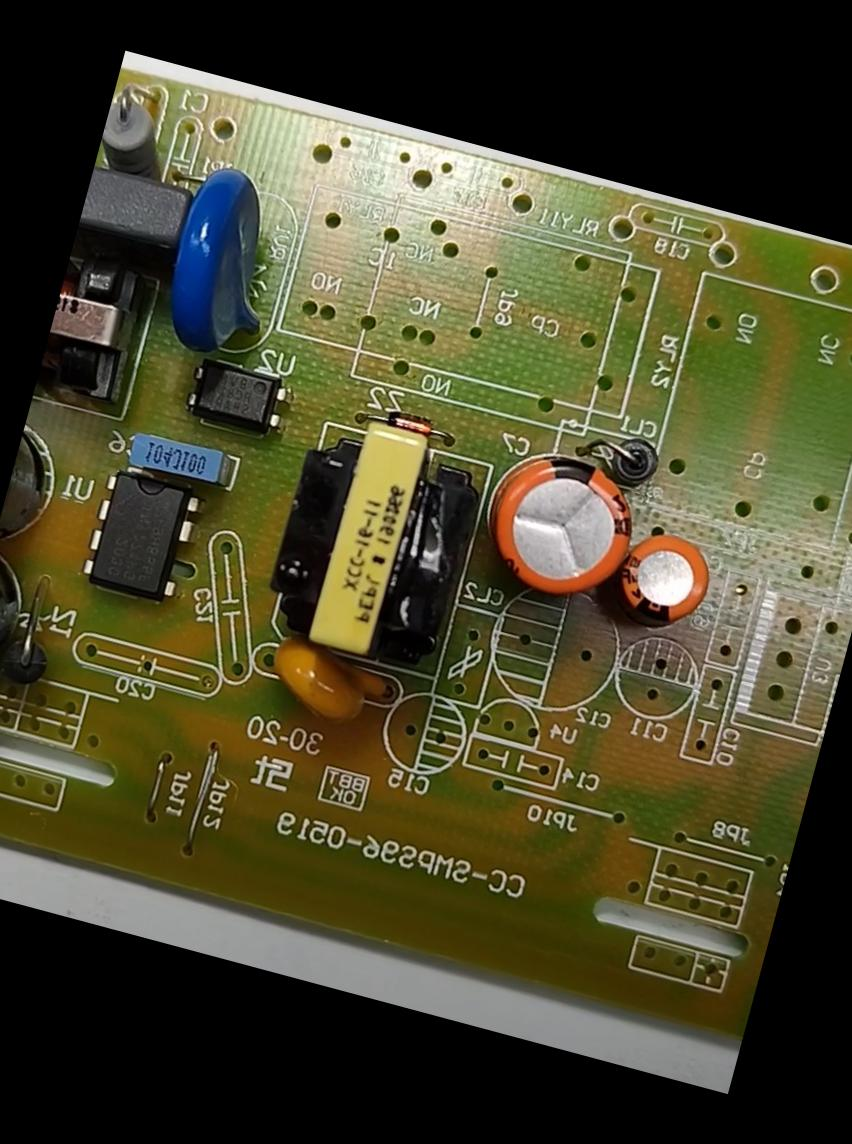Cap1: (462, 433, 659, 620)
Cap2: (595, 517, 725, 645)
Cap3: (0, 399, 75, 567)
Cap4: (0, 535, 49, 726)
MOSFET: (64, 455, 216, 620)
Mov: (142, 148, 310, 375)
Resistor: (90, 85, 190, 198)
Transformer: (246, 393, 502, 688), (31, 234, 169, 425)
